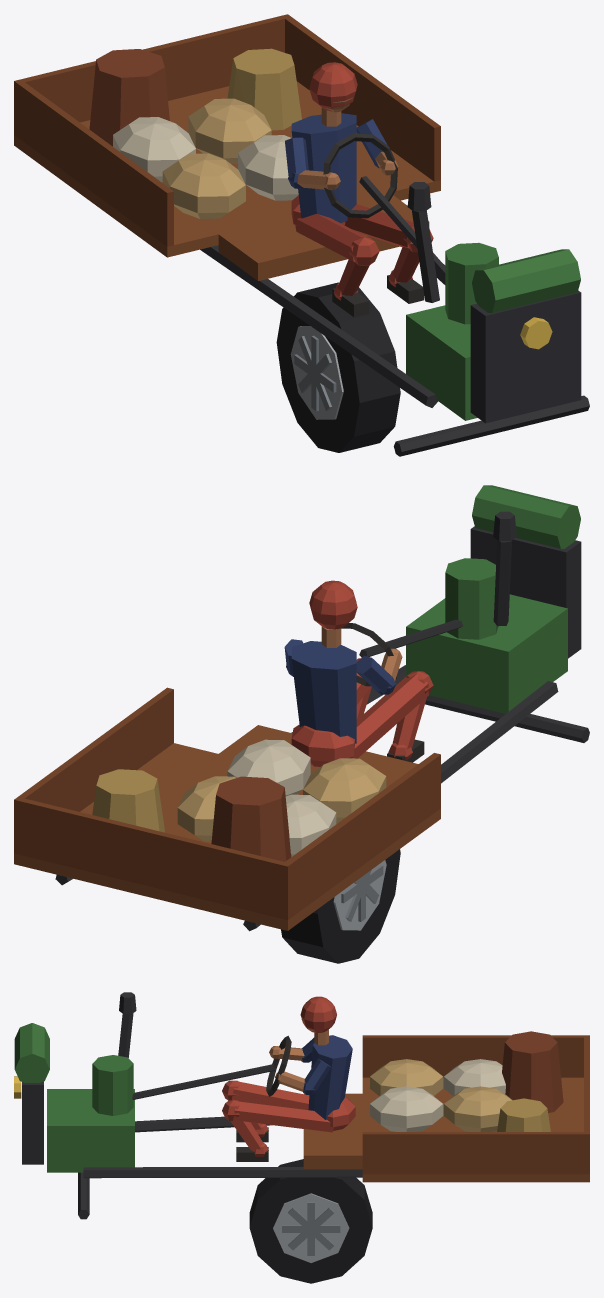
The model's file is etan.glb.
The picture shows the model from 3 angles, top to bottom: view 1: azimuth 30°, elevation 25°; view 2: azimuth 150°, elevation 25°; view 3: azimuth 270°, elevation 25°; orthographic projection. The views are drawn at different scales.
Parts seen in each view (by area): view 1: body, wheel2, lights; view 2: body, wheel2; view 3: body, wheel2.
Part boxes in pixels (x1=…): body: x1=14, y1=14, x2=589, y2=456; wheel2: x1=276, y1=282, x2=400, y2=452; lights: x1=520, y1=317, x2=552, y2=349; body: x1=14, y1=485, x2=589, y2=931; wheel2: x1=281, y1=849, x2=400, y2=963; body: x1=14, y1=992, x2=589, y2=1219; wheel2: x1=249, y1=1159, x2=372, y2=1283.
Size of the model in its own units: 1.6 by 2.09 by 3.93.
